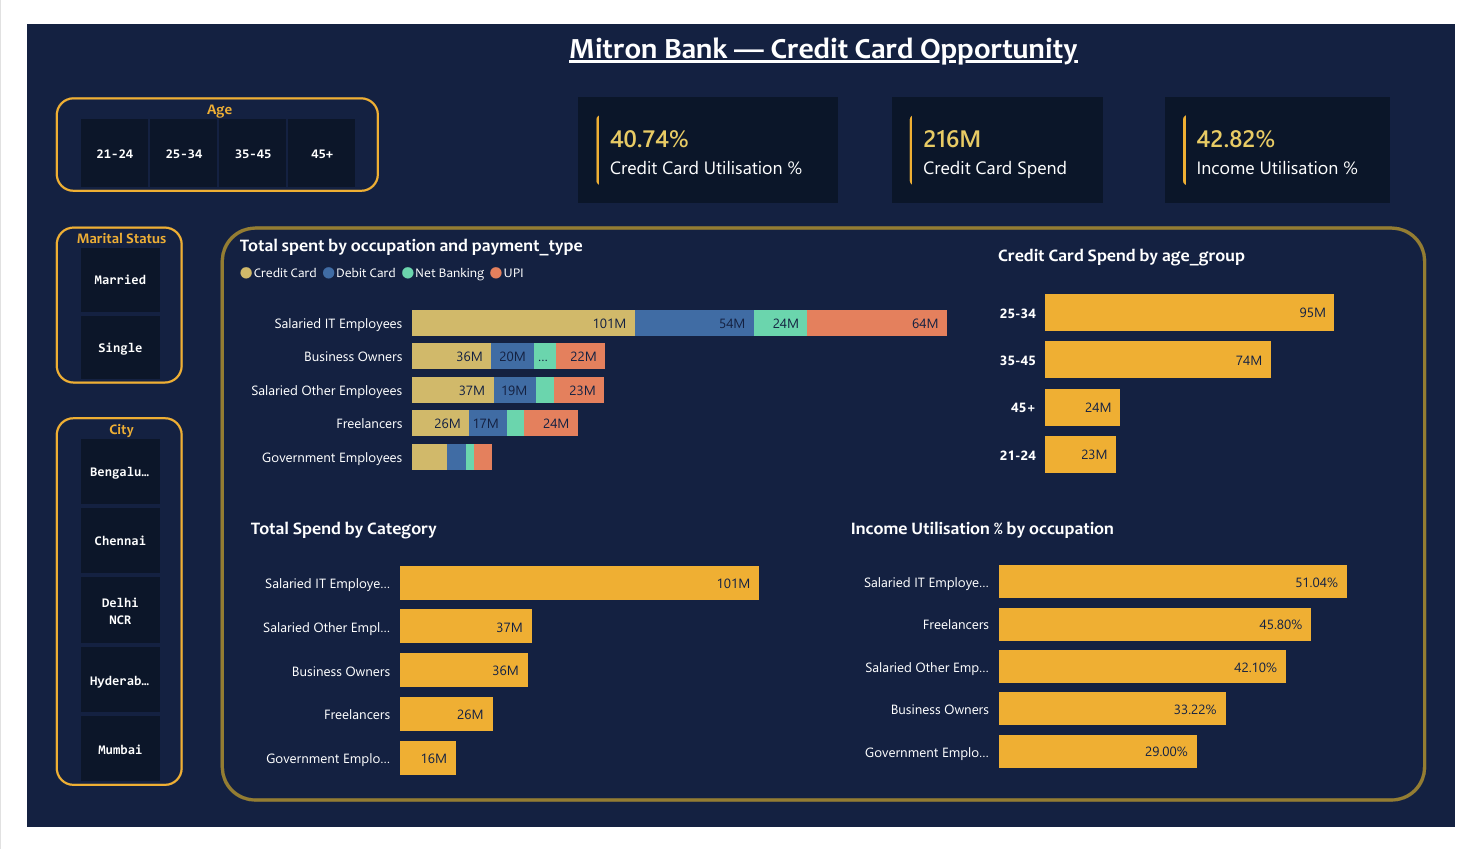

Layout of this report page (visuals, bound fields, positions):
{"tool":"powerbi","page":{"name":"Credit Card Opportunity","canvas":[1280,720],"ordinal":3},"visuals":[{"type":"shape","box":[172.9,181.2,1080.7,515.5],"z":0},{"type":"cardVisual","fields":{"Data":["_measures.Income Utilisation %"]},"box":[1020,65,201,95.2],"z":1000},{"type":"slicer","title":"Marital Status","fields":{"Values":["dim_customers.marital status"]},"box":[24.8,181.2,113.9,140.8],"z":2000},{"type":"textbox","box":[466.9,0,492.7,54.9],"z":3000},{"type":"cardVisual","fields":{"Data":["_measures.Credit Card Spend"]},"box":[775.3,65.2,188.4,95.2],"z":4000},{"type":"cardVisual","fields":{"Data":["_measures.Credit Card Utilisation %"]},"box":[493.8,65.2,232.9,95.2],"z":5000},{"type":"clusteredBarChart","title":"Total Spend by Category","fields":{"Y":["_measures.Credit Card Spend"],"Category":["dim_customers.occupation"]},"box":[199.8,442,495.9,248.4],"z":8000},{"type":"clusteredBarChart","fields":{"Category":["dim_customers.occupation"],"Y":["_measures.Income Utilisation %"]},"box":[738.1,442,491.7,241.2],"z":9000},{"type":"barChart","fields":{"Category":["dim_customers.occupation"],"Y":["_measures.Total spent"],"Series":["fact_spends.payment_type"]},"box":[190.5,188.4,647,223.6],"z":10000},{"type":"barChart","fields":{"Category":["dim_customers.age_group"],"Y":["_measures.Credit Card Spend"]},"box":[869.6,196.7,332.3,223.6],"z":11000},{"type":"slicer","title":"Age","fields":{"Values":["dim_customers.age_group"]},"box":[24.8,65.2,289.9,84.9],"z":11001},{"type":"slicer","title":"City","fields":{"Values":["dim_customers.city"]},"box":[24.8,352,113.9,331.3],"z":11002}]}

Visuals, with their boxes in screenshot pixels (x1, y1, x2, y2), scaled from the page's 1280x720 canvas onto the 1477x849 screenshot:
shape: (left=200, top=214, right=1447, bottom=822)
cardVisual - _measures.Income Utilisation %: (left=1177, top=77, right=1409, bottom=189)
"Marital Status" slicer: (left=29, top=214, right=160, bottom=380)
textbox: (left=539, top=0, right=1107, bottom=65)
cardVisual - _measures.Credit Card Spend: (left=895, top=77, right=1112, bottom=189)
cardVisual - _measures.Credit Card Utilisation %: (left=570, top=77, right=839, bottom=189)
"Total Spend by Category" clusteredBarChart: (left=231, top=521, right=803, bottom=814)
clusteredBarChart - dim_customers.occupation x _measures.Income Utilisation %: (left=852, top=521, right=1419, bottom=806)
barChart - dim_customers.occupation x _measures.Total spent: (left=220, top=222, right=966, bottom=486)
barChart - dim_customers.age_group x _measures.Credit Card Spend: (left=1003, top=232, right=1387, bottom=496)
"Age" slicer: (left=29, top=77, right=363, bottom=177)
"City" slicer: (left=29, top=415, right=160, bottom=806)
